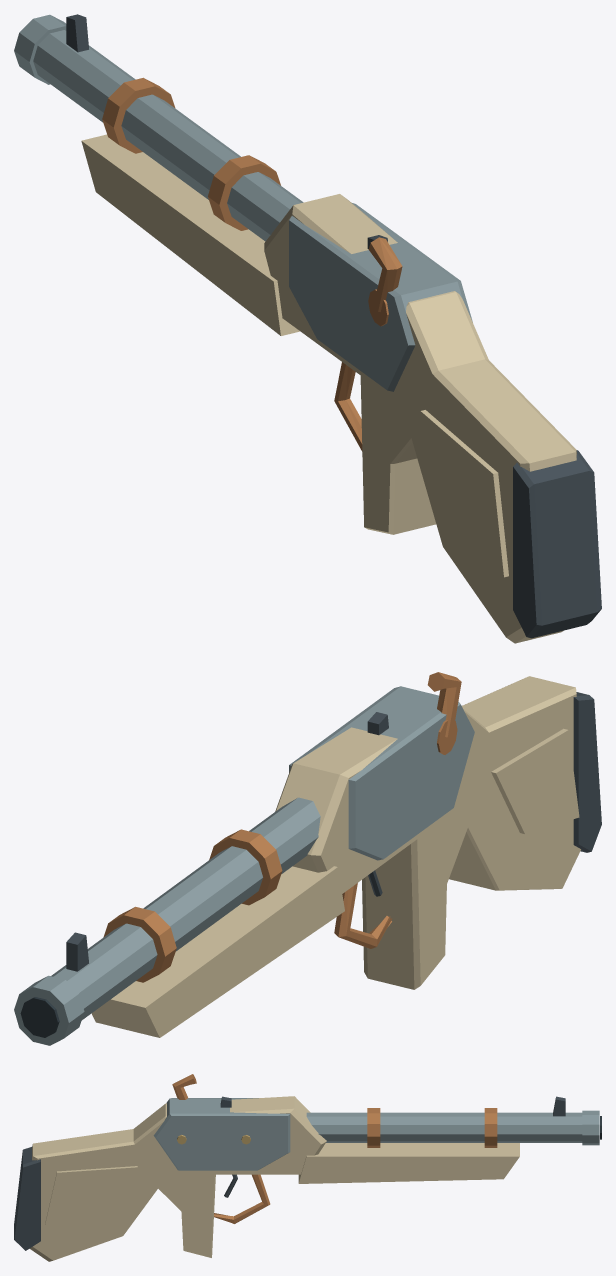
The model's file is AEW_Longgun_AntlerWatch.fbx.
3 views of the same model, one above another, from view 1: azimuth 30°, elevation 25°; view 2: azimuth 150°, elevation 25°; view 3: azimuth 270°, elevation 25° (orthographic). The views are drawn at different scales.
Parts seen in each view (by area): view 1: AEW_Longgun_AntlerWatch; view 2: AEW_Longgun_AntlerWatch; view 3: AEW_Longgun_AntlerWatch.
Part boxes in pixels (x1=…): AEW_Longgun_AntlerWatch: x1=14, y1=14, x2=601, y2=643; AEW_Longgun_AntlerWatch: x1=14, y1=672, x2=601, y2=1045; AEW_Longgun_AntlerWatch: x1=14, y1=1074, x2=601, y2=1261.
Size of the model in its own units: 0.121 by 0.4759 by 1.46.
